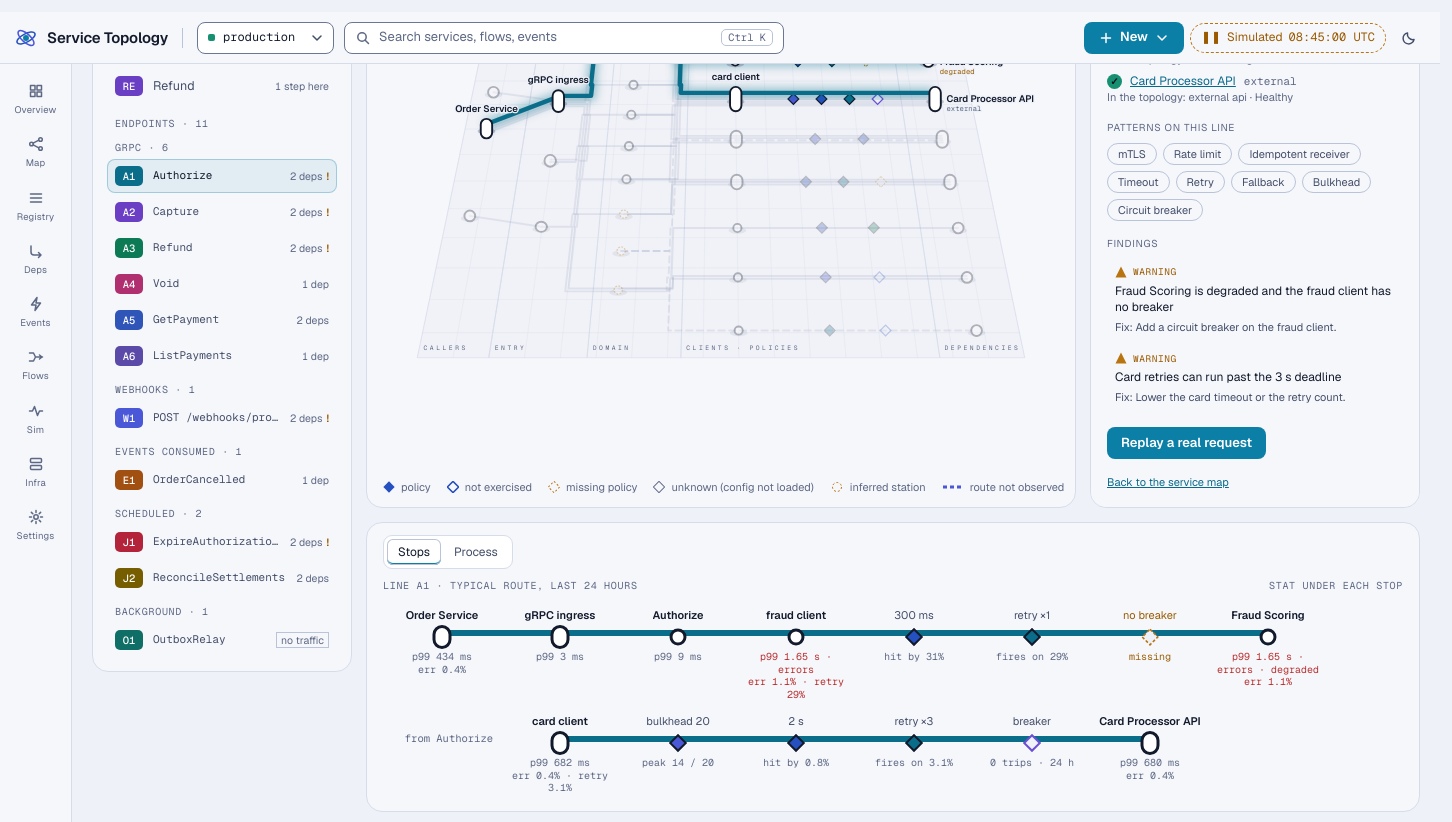
Test case: trace replay (spec Phase 4, example traces) › opens from the line card with sample requests, steps, and a train on the map
(page scrolled)
Click the button "Replay a real request".
click(1187, 443)  # box [1107,427,1266,459]
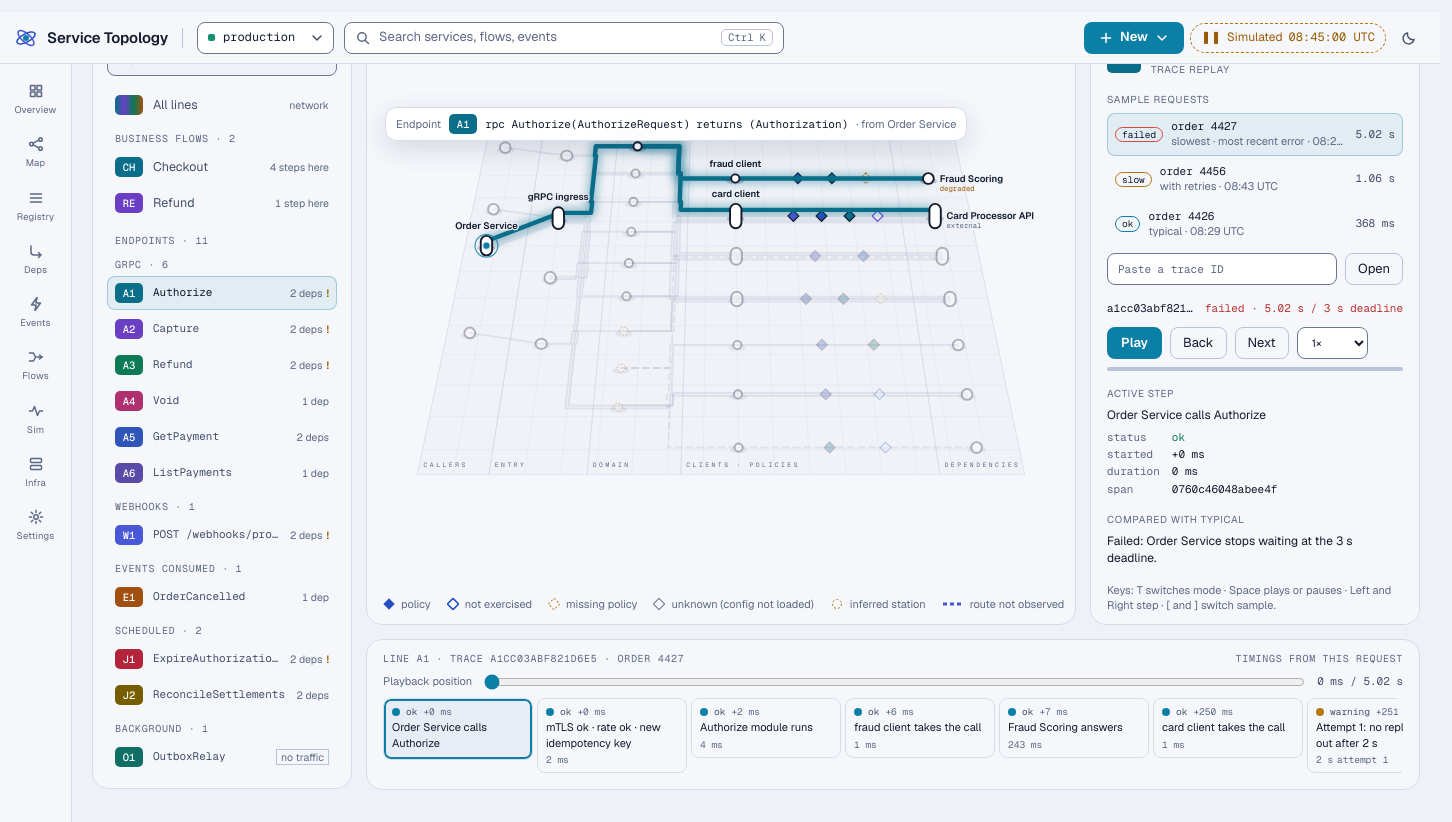
Now the button "ok +0 ms Order Service calls Authorize" is shown, box [383,698,533,760]
